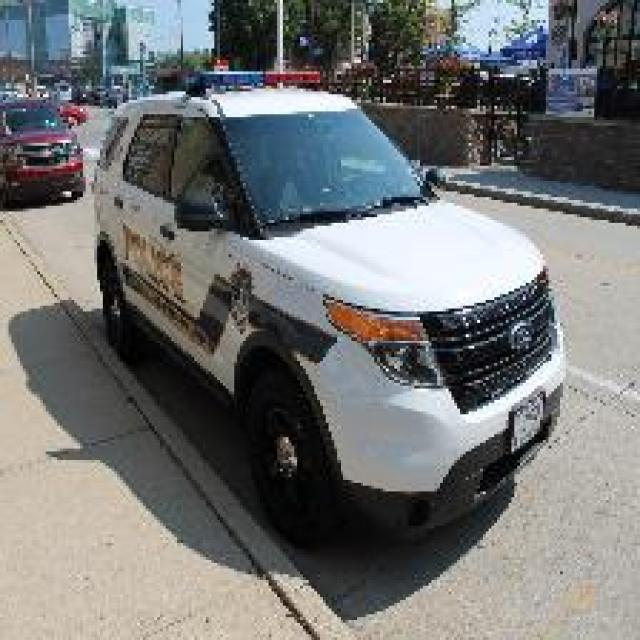emergency: (88, 54, 568, 542)
